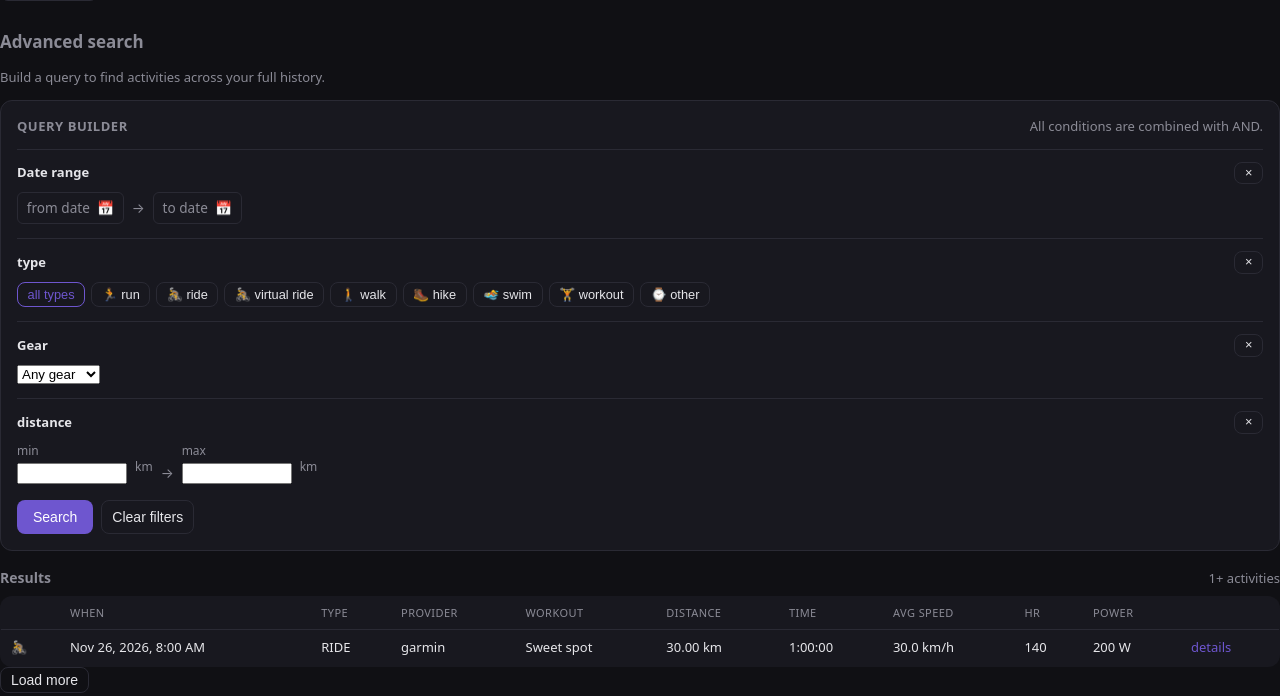
it: AdvancedSearchSection › appends the next page with the cursor from the applied query
This screenshot has width=1280, height=696.
Expected: the text "1+ activities" is shown, [1209, 569, 1279, 588]
Click the button "Load more" at [44, 680], box [0, 667, 89, 693]
(page scrolled)
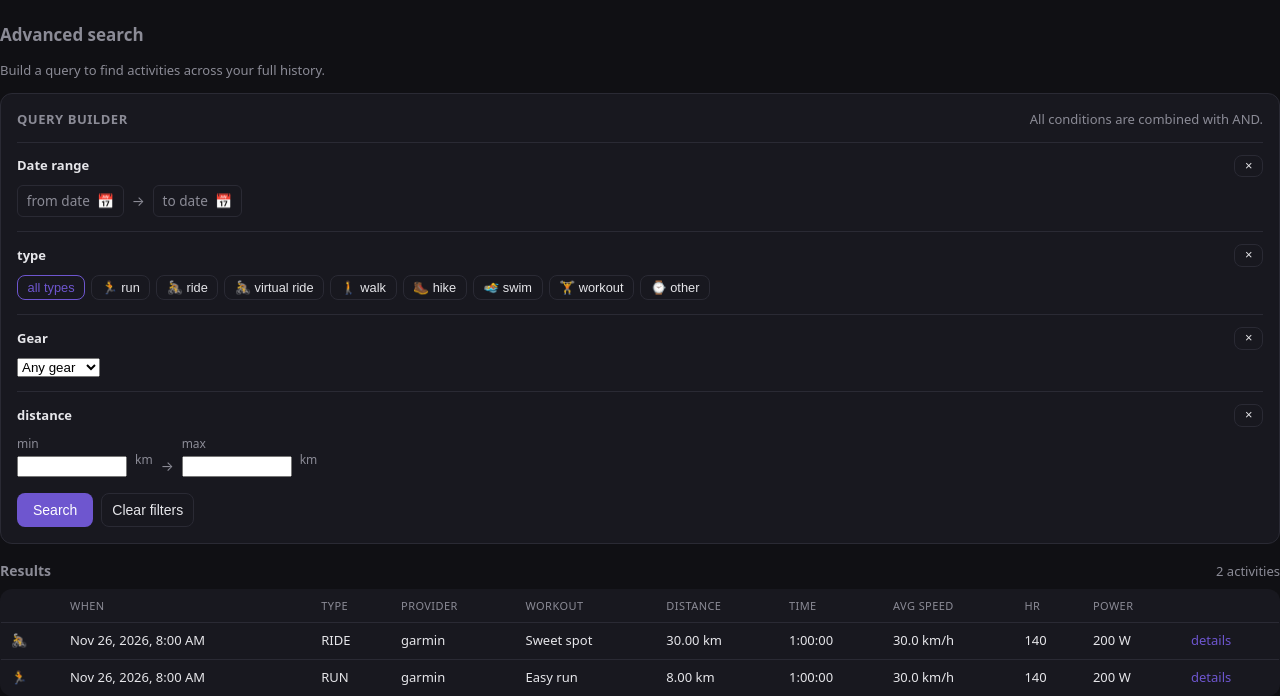
Now the text "2 activities" is shown, box [1216, 562, 1279, 581]
Now the text "Easy run" is shown, box [516, 659, 656, 695]
